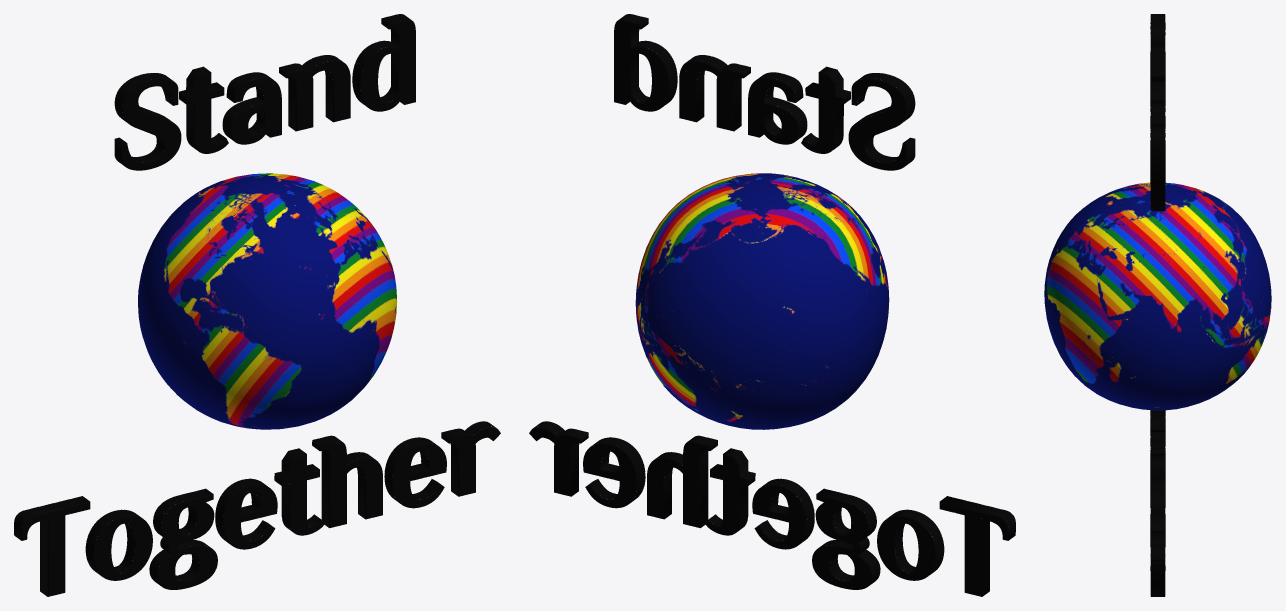
File: pride_globe.glb
3 views of the same model, side by side, from view 1: azimuth 30°, elevation 25°; view 2: azimuth 150°, elevation 25°; view 3: azimuth 270°, elevation 25° (orthographic). The views are drawn at different scales.
Parts seen in each view (by area): view 1: Cube.000, Text.001, Text; view 2: Cube.000, Text.001, Text; view 3: Cube.000, Text, Text.001.
Part boxes in pixels (x1,y1,x2,y2): Cube.000: (138, 173, 397, 429); Text.001: (14, 421, 500, 596); Text: (114, 14, 415, 170); Cube.000: (635, 173, 889, 429); Text.001: (529, 421, 1015, 596); Text: (614, 14, 915, 170); Cube.000: (1044, 182, 1271, 410); Text: (1150, 14, 1165, 210); Text.001: (1150, 410, 1165, 596).
Bounding box in the file's own units: 3.67 × 3.79 × 1.7.
2 materials, 1 textured.
